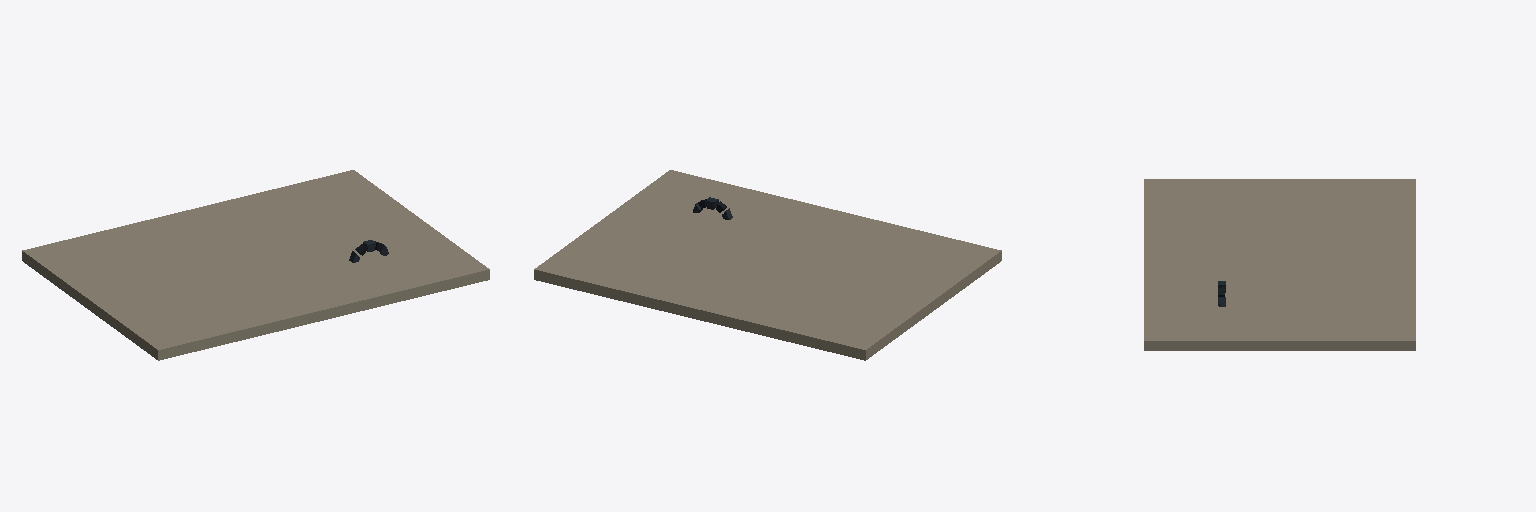
Rendered from arch1.obj.
The picture shows the model from 3 angles: view 1: azimuth 30°, elevation 25°; view 2: azimuth 150°, elevation 25°; view 3: azimuth 270°, elevation 25°; orthographic projection.
Visible parts, largest first — view 1: BG_Cube_Cube.004; view 2: BG_Cube_Cube.004; view 3: BG_Cube_Cube.004.
Boxes of the visible parts, box(x1,y1,x2,y2) form: BG_Cube_Cube.004: box(22, 170, 489, 360); BG_Cube_Cube.004: box(534, 170, 1001, 360); BG_Cube_Cube.004: box(1144, 179, 1415, 350).
Size of the model in its own units: 63 by 5.27 by 44.82.